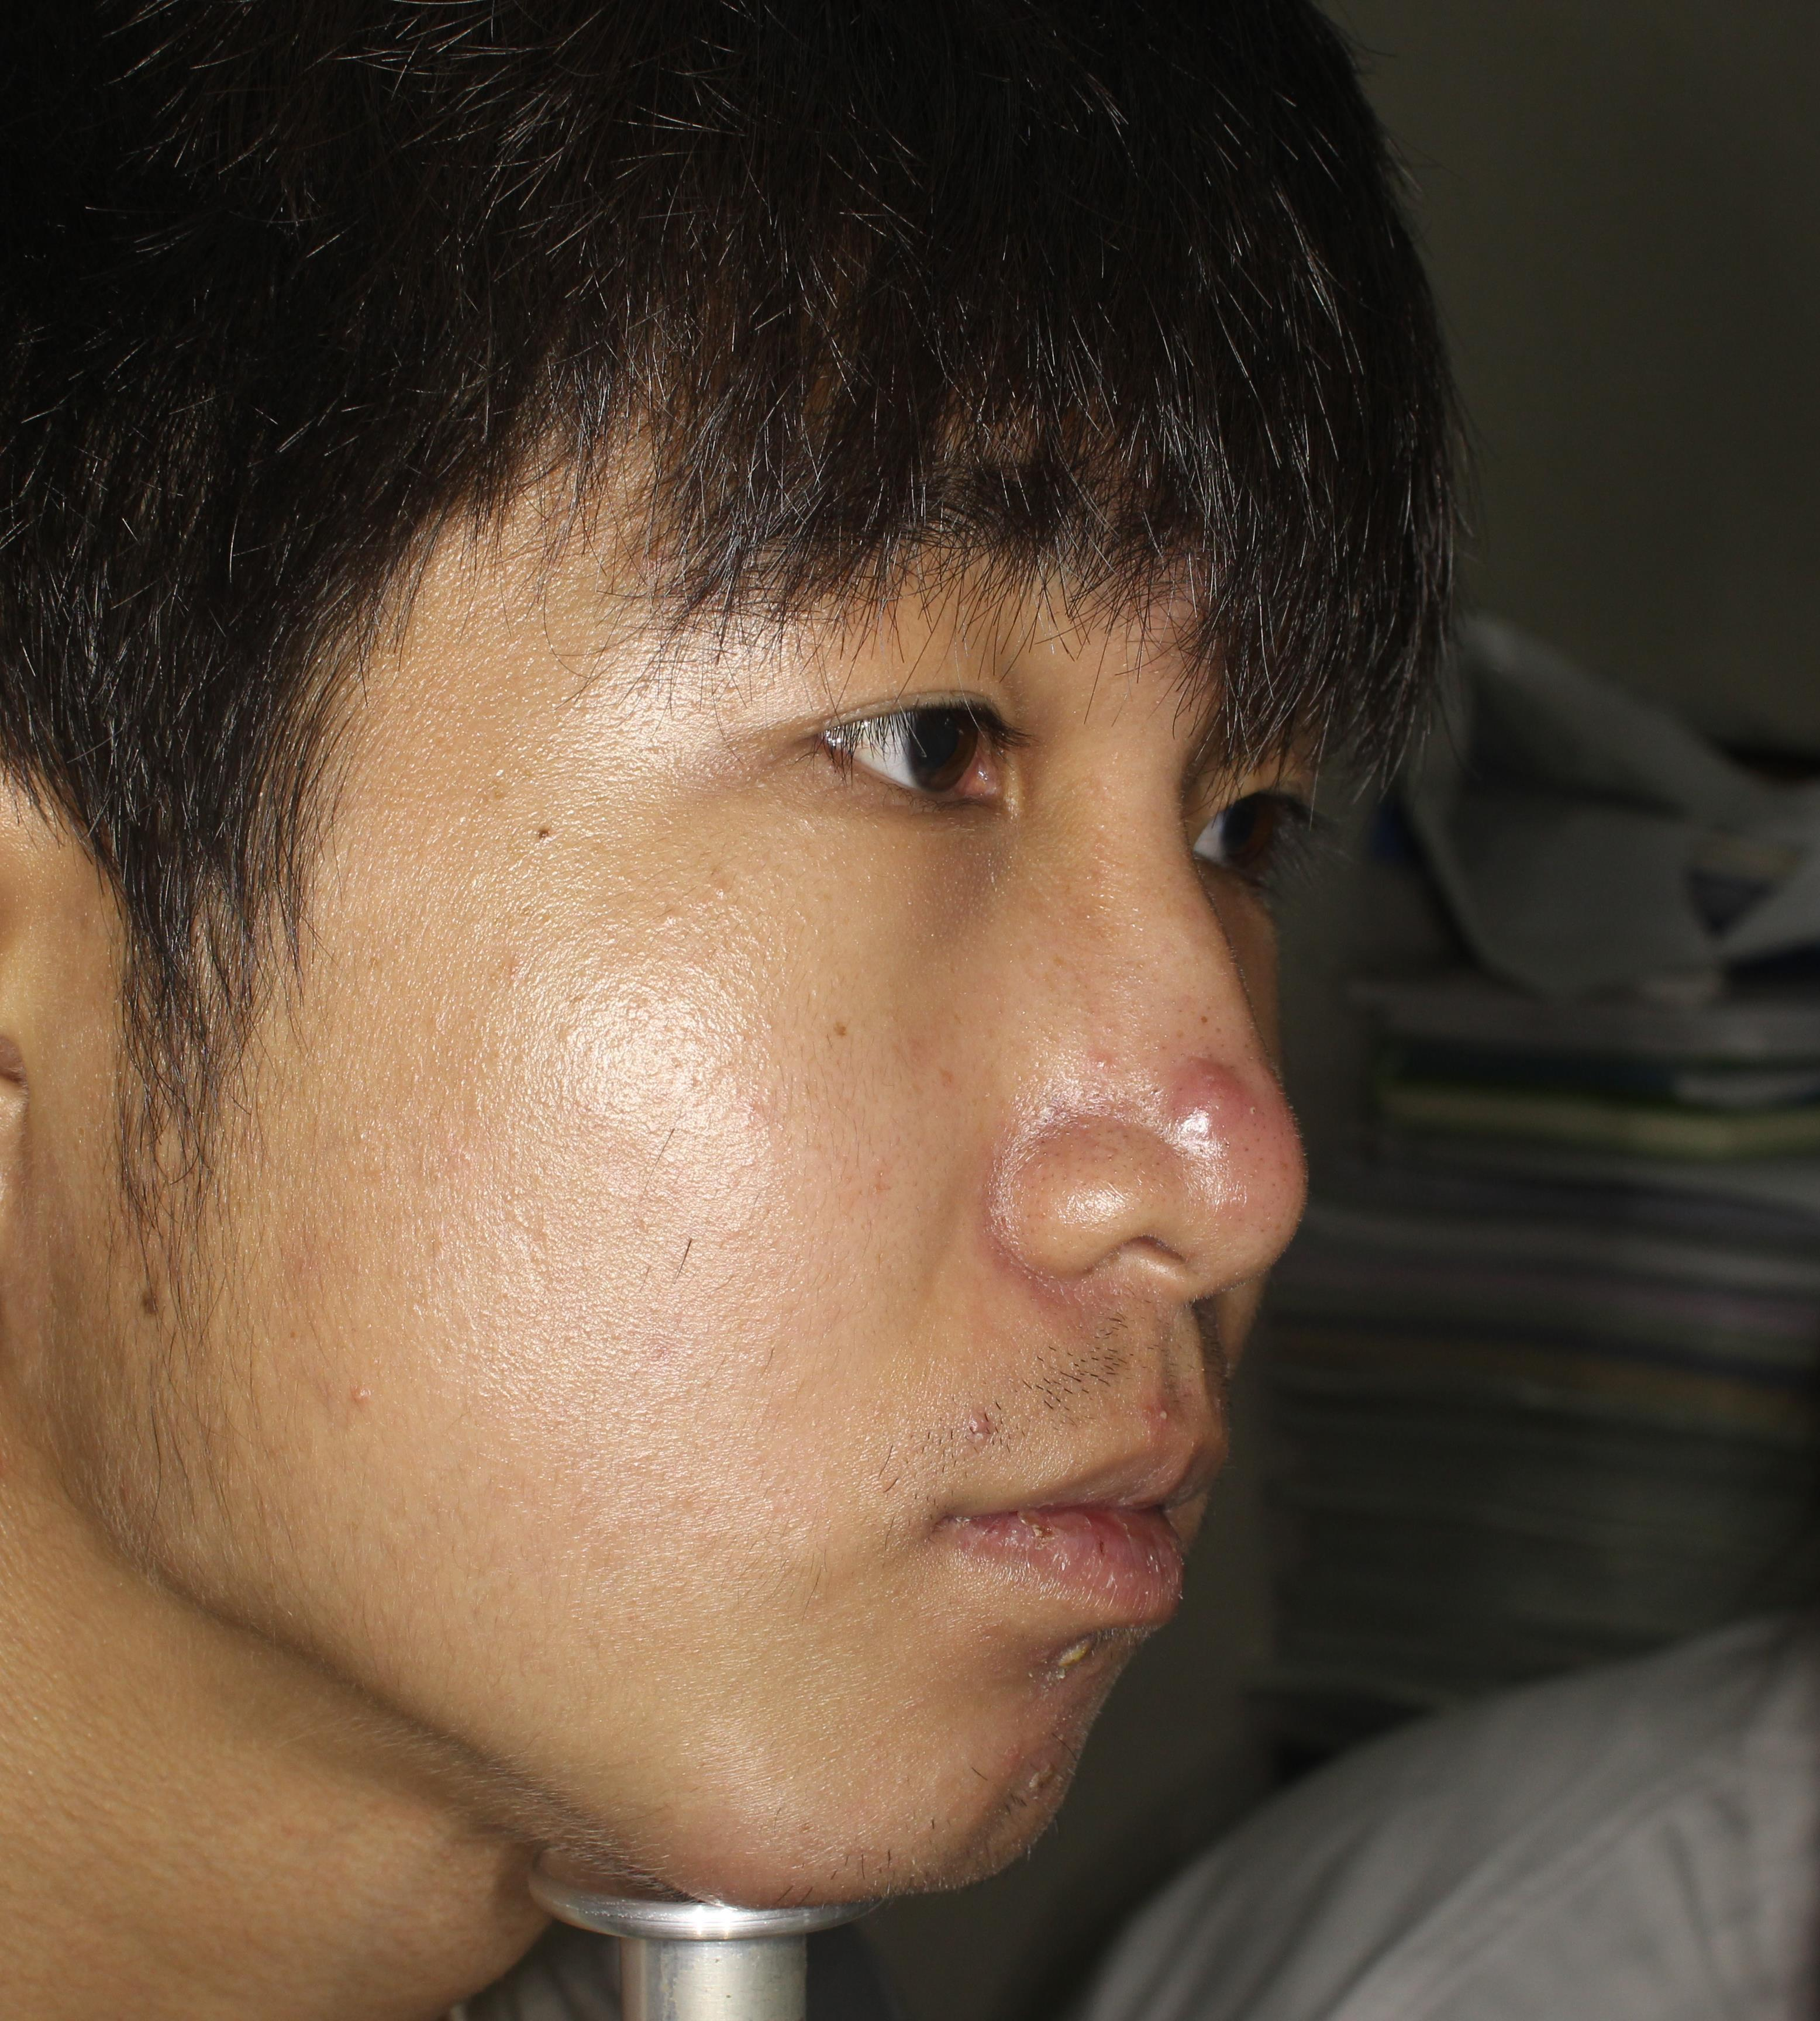fore: (1170, 1029, 1265, 1136)
